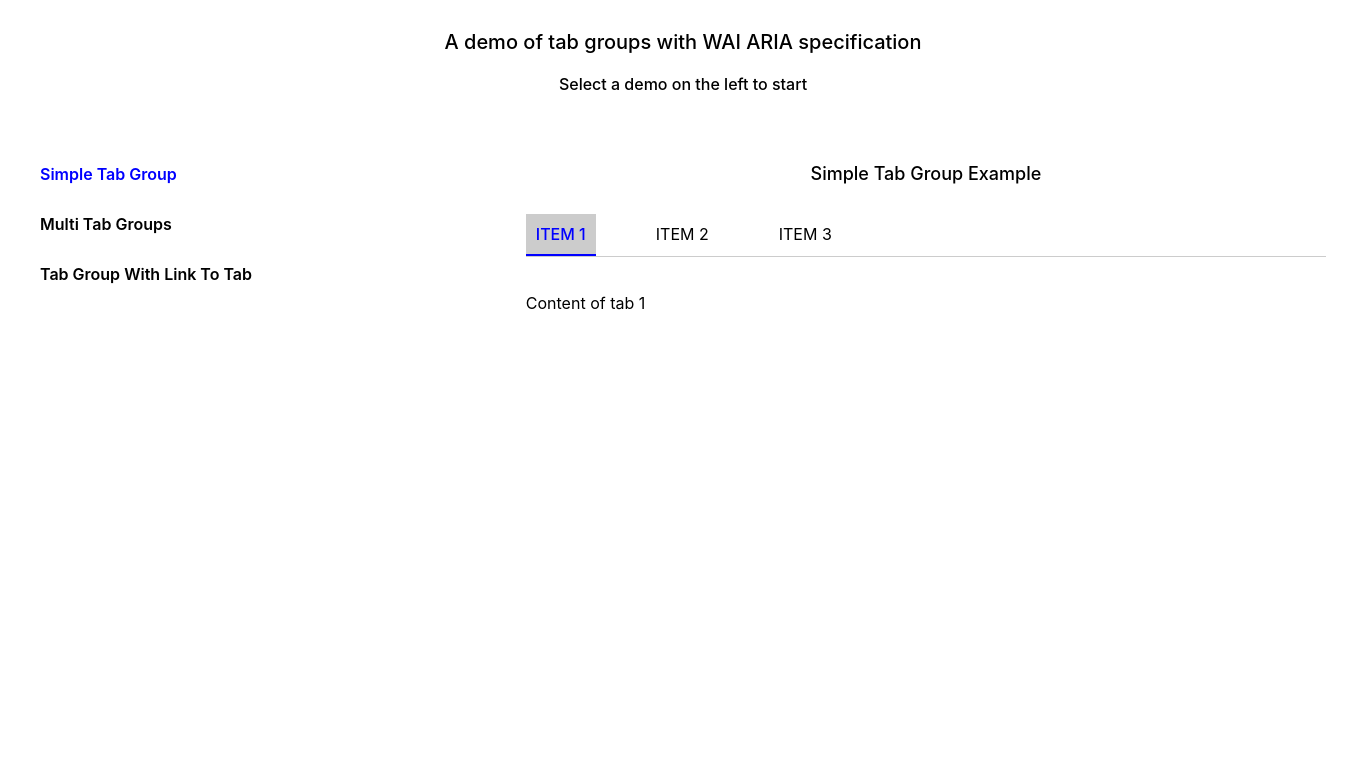
it: App component › click Multi Tab Groups option, multi tab groups will show
Click the text "Multi Tab Groups": [106, 224] box [40,214,172,234]
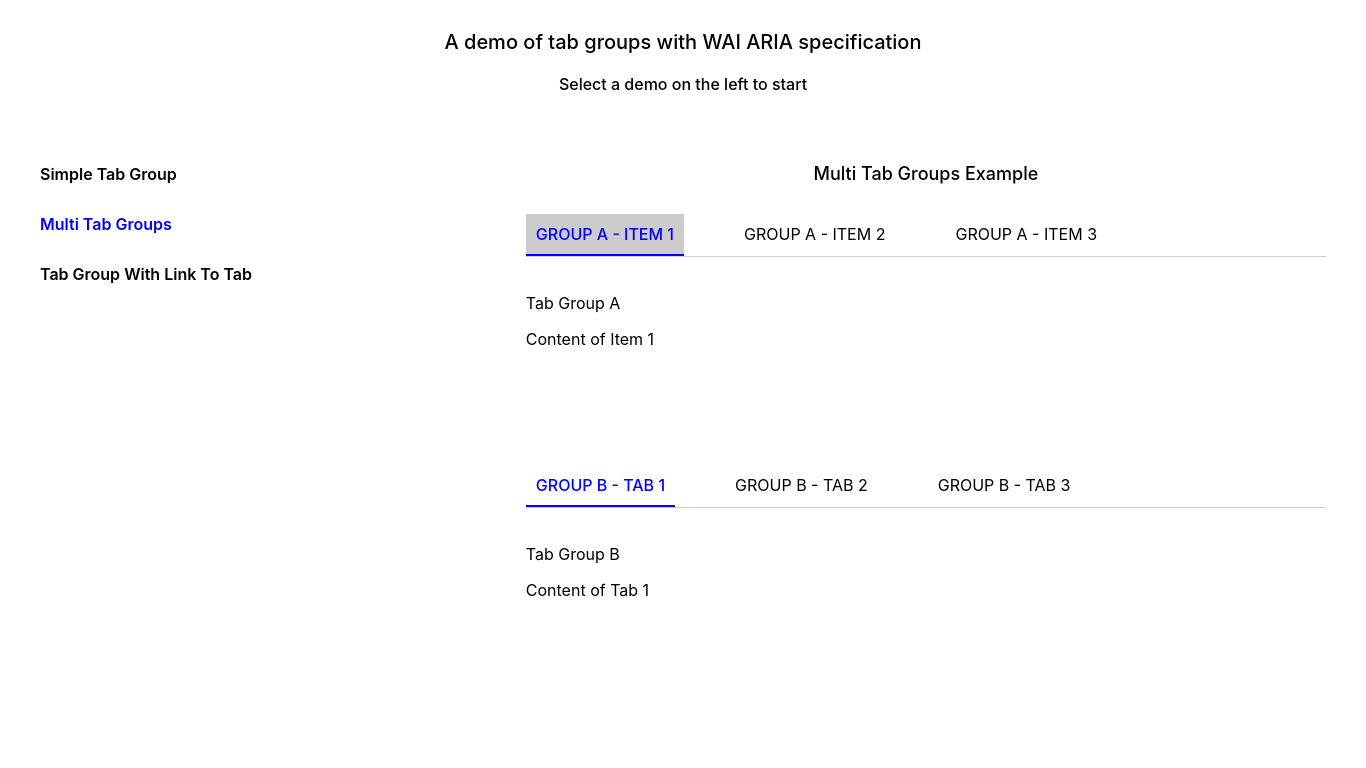
Check: the text "Multi Tab Groups Example" is shown, box [814,163,1038,184]
Check: the tab "GROUP A - ITEM 1" is shown, box [526,214,684,256]
Check: the tab "GROUP A - ITEM 2" is shown, box [744,224,886,244]
